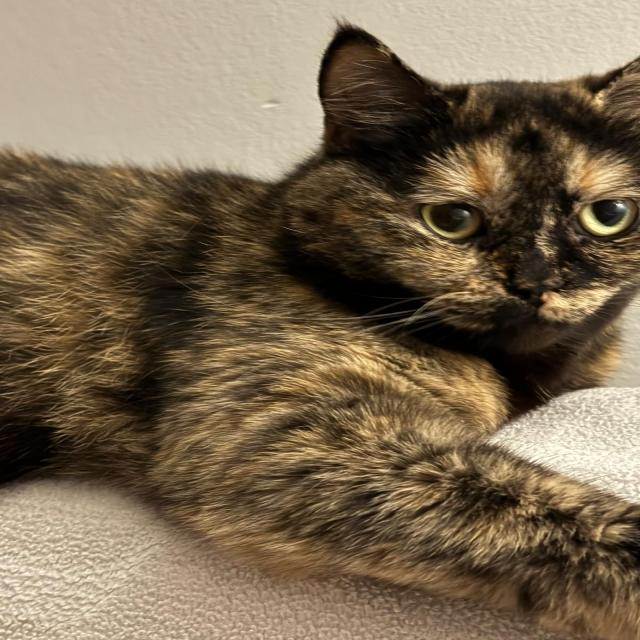authorized: (0, 16, 639, 638)
